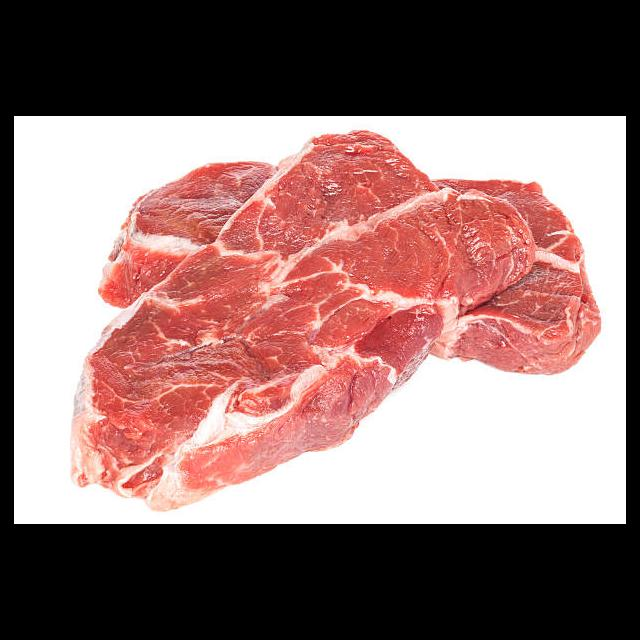beef: (67, 128, 603, 515)
